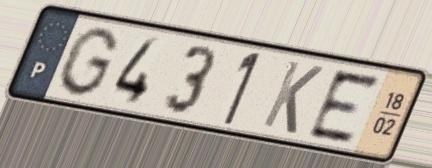1: (222, 50, 264, 128)
3: (162, 43, 218, 116)
4: (110, 35, 160, 108)
E: (305, 67, 384, 145)
G: (54, 24, 123, 99)
K: (258, 58, 327, 138)
